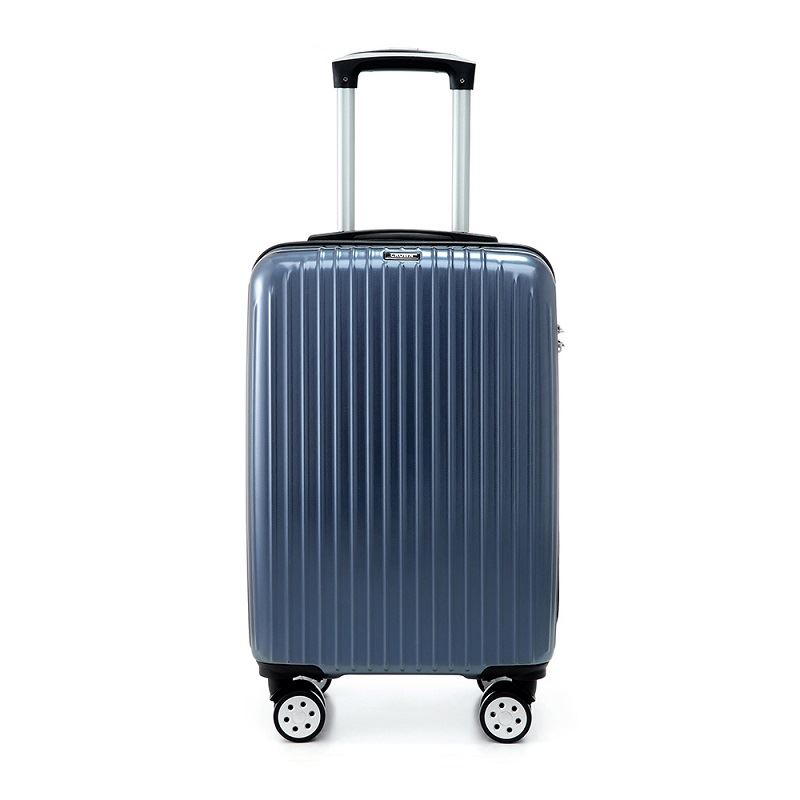box: (245, 242, 559, 673)
handle: (306, 228, 499, 244)
wheel: (272, 678, 326, 743), (479, 680, 532, 744)
